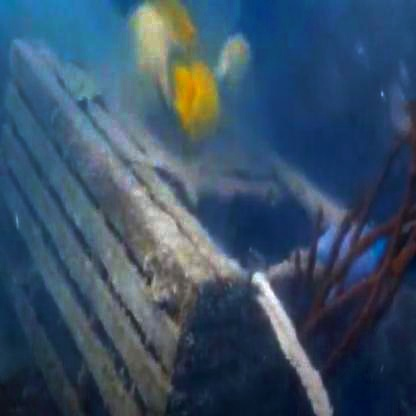misc: (36, 91, 275, 411)
